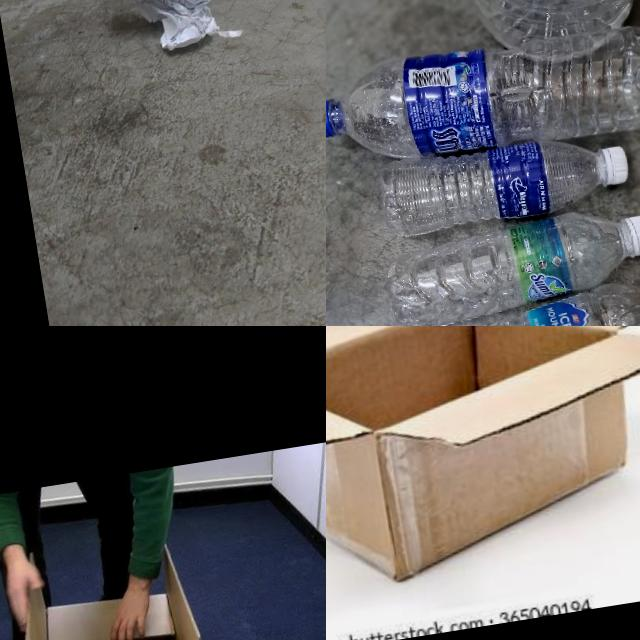garrafa plástica: (326, 18, 640, 178), (381, 202, 639, 326), (374, 128, 610, 240), (452, 0, 640, 74), (395, 272, 640, 326)
papel: (87, 0, 252, 64)
papelão: (326, 326, 640, 620), (6, 528, 225, 640)
tampa plástica: (602, 144, 631, 186), (622, 214, 640, 259), (326, 99, 337, 139)
